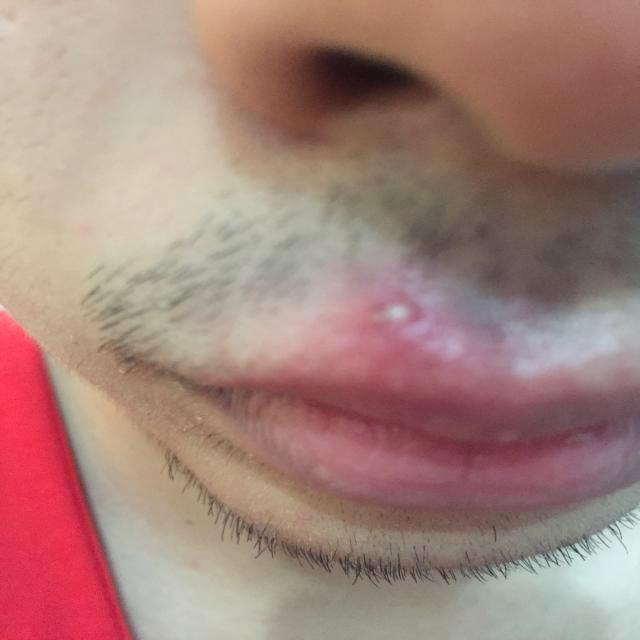Pimples: (364, 290, 442, 333)
